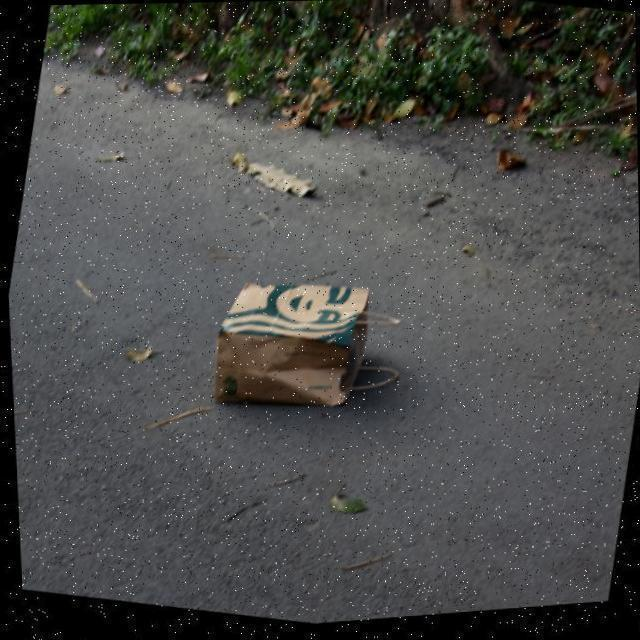Paper_Bag: (198, 262, 413, 440)
